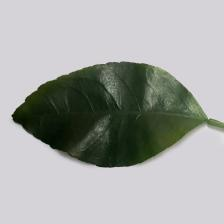healthy: (13, 68, 211, 168)
